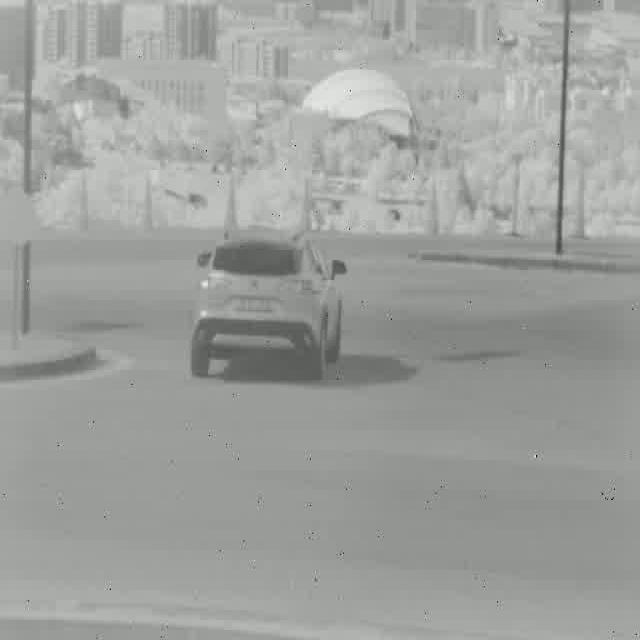Car: (191, 234, 341, 378)
